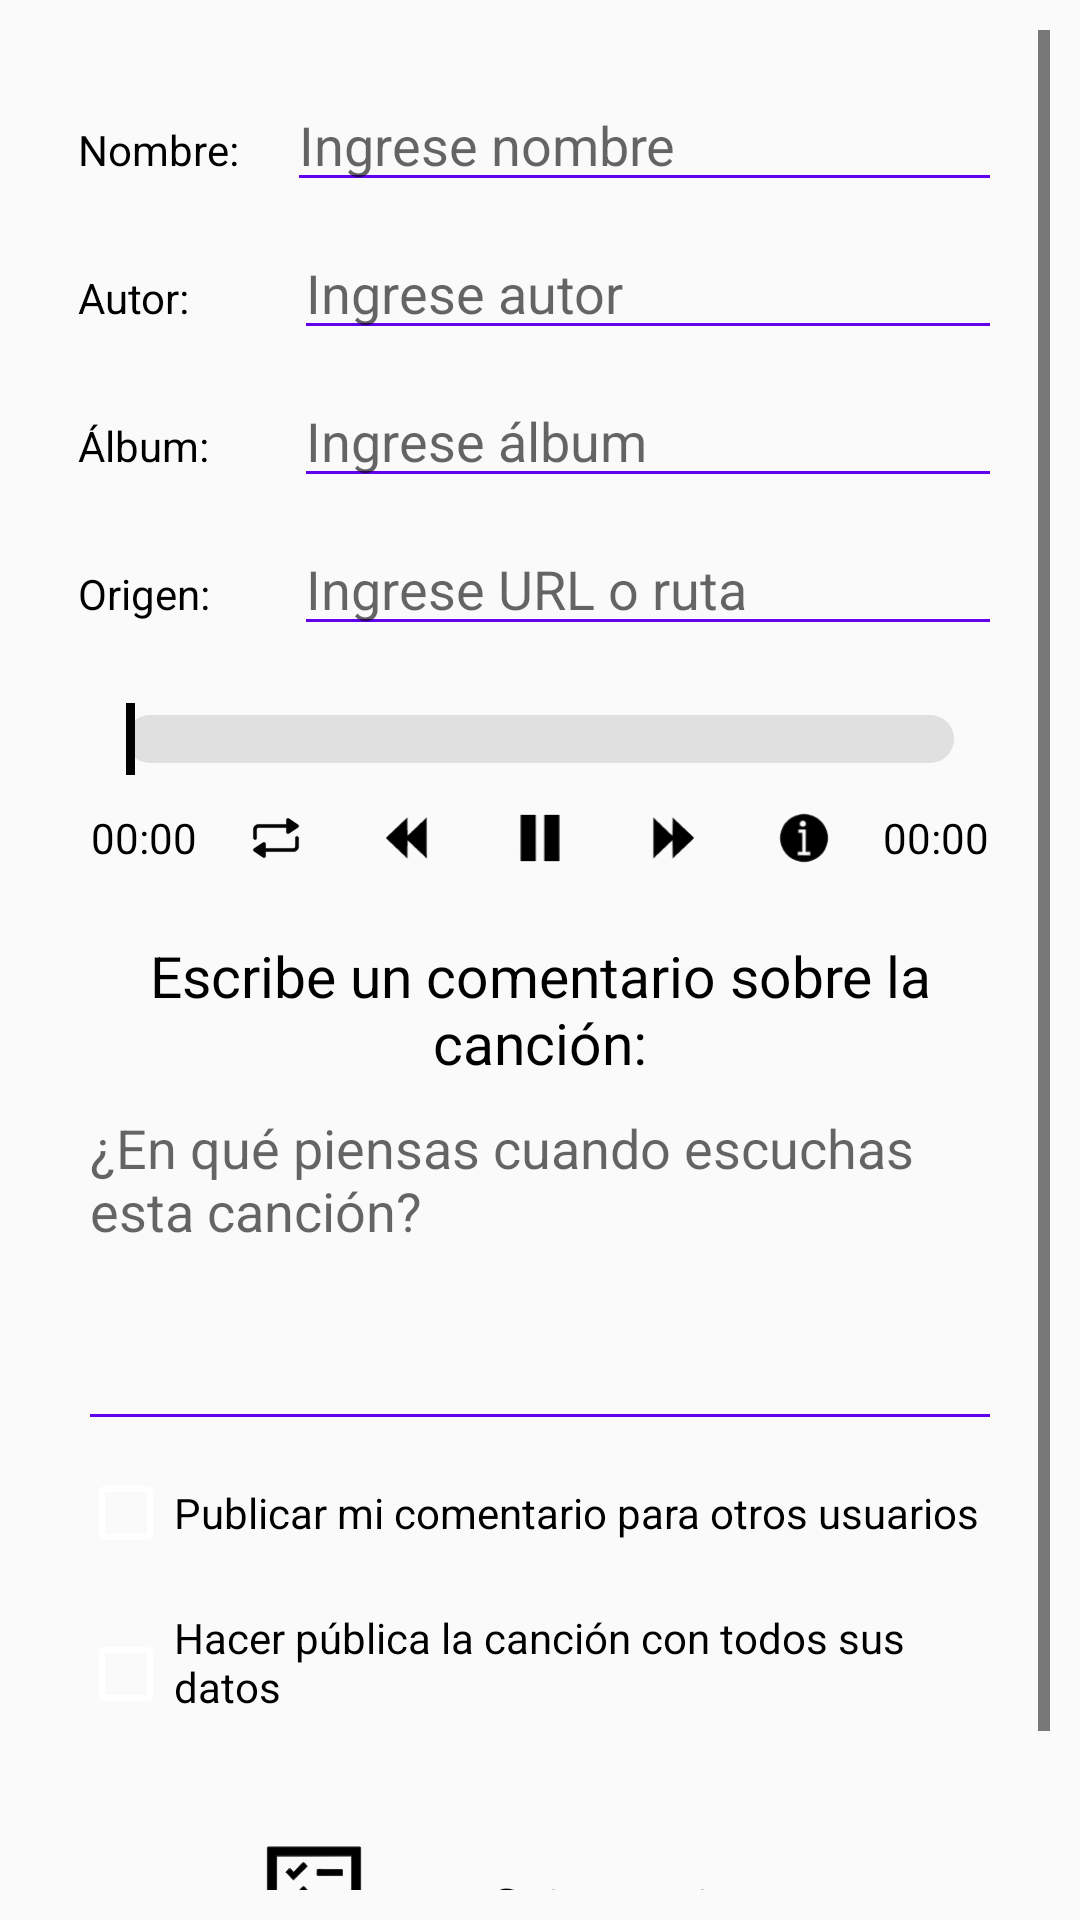

Icons on this 1080x1920 Android screen, each with the point to tap as point (x, y):
Forward: point (673, 838)
Info: point (804, 838)
Play/Pause: point (540, 838)
Rewind: point (406, 838)
